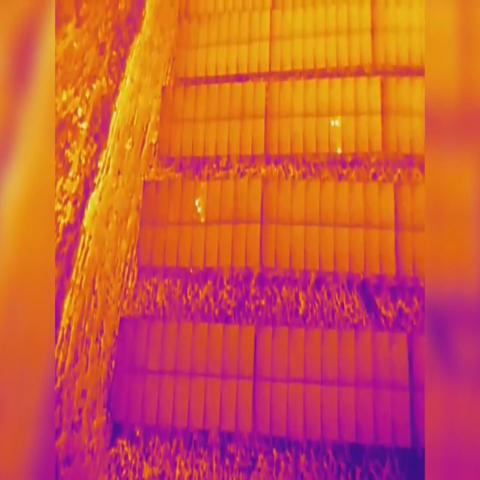fault: (333, 117, 339, 128), (336, 147, 343, 154), (330, 120, 336, 128)
